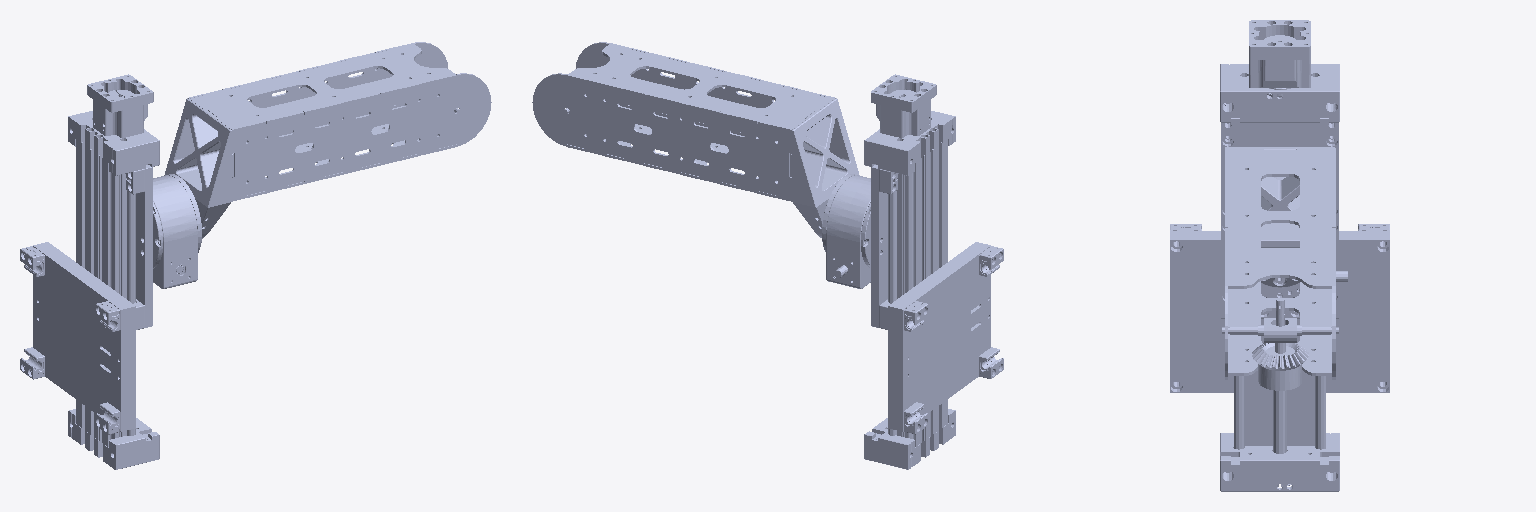
robot.urdf — gantry:
<?xml version="1.0" encoding="utf-8" ?>
<!-- This URDF was automatically created by SolidWorks to URDF Exporter! Originally created by [author] ([email redacted]) 
     Commit Version: 1.6.0-4-g7f85cfe  Build Version: 1.6.7995.38578
     For more information, please see http://wiki.ros.org/sw_urdf_exporter -->
<robot name="gantry">
    <link name="base_link">
        <inertial>
            <origin xyz="0.27339774606297 0.0196335701822426 -0.264075024281507" rpy="0 0 0" />
            <mass value="0.999102566760147" />
            <inertia ixx="0.000487064031842795" ixy="6.79087549106681E-07" ixz="1.23528453698552E-06" iyy="0.0114768570045405" iyz="-2.04757964896779E-08" izz="0.0112945243793064" />
        </inertial>
        <visual>
            <origin xyz="0 0 0" rpy="0 0 0" />
            <geometry>
                <mesh filename="package://gantry/meshes/base_link.STL" />
            </geometry>
            <material name="">
                <color rgba="0.792156862745098 0.819607843137255 0.933333333333333 1" />
            </material>
        </visual>
        <collision>
            <origin xyz="0 0 0" rpy="0 0 0" />
            <geometry>
                <mesh filename="package://gantry/meshes/base_link.STL" />
            </geometry>
        </collision>
    </link>
    <link name="X_Gantry_Link">
        <inertial>
            <origin xyz="-0.250897370416497 0.121219391821721 -0.118974126778769" rpy="0 0 0" />
            <mass value="2.7184408688585" />
            <inertia ixx="0.00586953459875889" ixy="-2.79508273037237E-10" ixz="-7.22728452005846E-09" iyy="0.0300491640122006" iyz="8.45462220164003E-05" izz="0.0312917393952744" />
        </inertial>
        <visual>
            <origin xyz="0 0 0" rpy="0 0 0" />
            <geometry>
                <mesh filename="package://gantry/meshes/X_Gantry_Link.STL" />
            </geometry>
            <material name="">
                <color rgba="0.792156862745098 0.819607843137255 0.933333333333333 1" />
            </material>
        </visual>
        <collision>
            <origin xyz="0 0 0" rpy="0 0 0" />
            <geometry>
                <mesh filename="package://gantry/meshes/X_Gantry_Link.STL" />
            </geometry>
        </collision>
    </link>
    <joint name="x_Gantry" type="prismatic">
        <origin xyz="0.0674975000000973 0.0424999999999915 0.0224999999999924" rpy="1.5707963267949 0 -1.5707963267949" />
        <parent link="base_link" />
        <child link="X_Gantry_Link" />
        <axis xyz="0 0 1" />
        <limit lower="-0.3" upper="0" effort="0" velocity="0" />
    </joint>
    <link name="Y_Gantry_Link">
        <inertial>
            <origin xyz="-0.100144651239331 -0.259006925809135 -0.0449081543375902" rpy="0 0 0" />
            <mass value="1.32530018007878" />
            <inertia ixx="0.00487081879798324" ixy="6.39112939864611E-08" ixz="-1.68886769690012E-07" iyy="0.00261475168874749" iyz="6.95247980957958E-07" izz="0.00721218050776162" />
        </inertial>
        <visual>
            <origin xyz="0 0 0" rpy="0 0 0" />
            <geometry>
                <mesh filename="package://gantry/meshes/Y_Gantry_Link.STL" />
            </geometry>
            <material name="">
                <color rgba="0.792156862745098 0.819607843137255 0.933333333333333 1" />
            </material>
        </visual>
        <collision>
            <origin xyz="0 0 0" rpy="0 0 0" />
            <geometry>
                <mesh filename="package://gantry/meshes/Y_Gantry_Link.STL" />
            </geometry>
        </collision>
    </link>
    <joint name="Y_Gantry" type="prismatic">
        <origin xyz="-0.241997500000031 0.461999999999982 -0.165502499998546" rpy="0 0 0" />
        <parent link="X_Gantry_Link" />
        <child link="Y_Gantry_Link" />
        <axis xyz="1 0 0" />
        <limit lower="0" upper="0.169" effort="0" velocity="0" />
    </joint>
    <link name="Z_Gantry_Link">
        <inertial>
            <origin xyz="-0.0536424640855505 -0.104673786375704 -0.0399261236240839" rpy="0 0 0" />
            <mass value="0.403068685283752" />
            <inertia ixx="0.000772979562738817" ixy="3.73636664016052E-08" ixz="1.36135519292121E-10" iyy="0.000362088816461052" iyz="2.61748959077511E-07" izz="0.00111993021135161" />
        </inertial>
        <visual>
            <origin xyz="0 0 0" rpy="0 0 0" />
            <geometry>
                <mesh filename="package://gantry/meshes/Z_Gantry_Link.STL" />
            </geometry>
            <material name="">
                <color rgba="0.792156862745098 0.819607843137255 0.933333333333333 1" />
            </material>
        </visual>
        <collision>
            <origin xyz="0 0 0" rpy="0 0 0" />
            <geometry>
                <mesh filename="package://gantry/meshes/Z_Gantry_Link.STL" />
            </geometry>
        </collision>
    </link>
    <joint name="Z_Gantry" type="prismatic">
        <origin xyz="-0.0465025000000195 -0.0794677300954897 -0.0589999999999941" rpy="0 0 0" />
        <parent link="Y_Gantry_Link" />
        <child link="Z_Gantry_Link" />
        <axis xyz="0 1 0" />
        <limit lower="-0.137" upper="0" effort="0" velocity="0" />
    </joint>
    <link name="R_Arm_Link">
        <inertial>
            <origin xyz="0.000109473507279578 0.0560505796733769 0.13805236300869" rpy="0 0 0" />
            <mass value="0.64532660044539" />
            <inertia ixx="0.00306981338547555" ixy="1.71181564044435E-09" ixz="6.17685909908221E-09" iyy="0.00302834442807902" iyz="-9.03830003373785E-05" izz="0.000840530479292639" />
        </inertial>
        <visual>
            <origin xyz="0 0 0" rpy="0 0 0" />
            <geometry>
                <mesh filename="package://gantry/meshes/R_Arm_Link.STL" />
            </geometry>
            <material name="">
                <color rgba="0.792156862745098 0.819607843137255 0.933333333333333 1" />
            </material>
        </visual>
        <collision>
            <origin xyz="0 0 0" rpy="0 0 0" />
            <geometry>
                <mesh filename="package://gantry/meshes/R_Arm_Link.STL" />
            </geometry>
        </collision>
    </link>
    <joint name="R_Arm" type="continuous">
        <origin xyz="-0.0534999999999979 -0.100032269904372 -0.0569000000000014" rpy="3.14159265358979 0 3.14159265358979" />
        <parent link="Z_Gantry_Link" />
        <child link="R_Arm_Link" />
        <axis xyz="0 0 1" />
    </joint>
    <link name="TMS_1_Link">
        <inertial>
            <origin xyz="-4.56840156878302E-05 7.36077865326479E-14 -3.34343663865866E-13" rpy="0 0 0" />
            <mass value="0.0116350451938088" />
            <inertia ixx="6.14460426457637E-07" ixy="-1.18091912603685E-20" ixz="3.26582785426984E-20" iyy="4.75482817954653E-06" iyz="-1.39100706744228E-21" izz="5.05668684718519E-06" />
        </inertial>
        <visual>
            <origin xyz="0 0 0" rpy="0 0 0" />
            <geometry>
                <mesh filename="package://gantry/meshes/TMS_1_Link.STL" />
            </geometry>
            <material name="">
                <color rgba="0.792156862745098 0.819607843137255 0.933333333333333 1" />
            </material>
        </visual>
        <collision>
            <origin xyz="0 0 0" rpy="0 0 0" />
            <geometry>
                <mesh filename="package://gantry/meshes/TMS_1_Link.STL" />
            </geometry>
        </collision>
    </link>
    <joint name="TMS_1" type="continuous">
        <origin xyz="0.000346999570831286 0.0752500000000218 0.370600000000016" rpy="1.57079632679489 0 0" />
        <parent link="R_Arm_Link" />
        <child link="TMS_1_Link" />
        <axis xyz="1 0 0" />
    </joint>
    <link name="TMS_HEAD_Link">
        <inertial>
            <origin xyz="-6.06164768379713E-09 3.13335531965109E-08 0.0319916748170583" rpy="0 0 0" />
            <mass value="0.0428412061326084" />
            <inertia ixx="1.16531775928894E-05" ixy="1.27769948468722E-13" ixz="-4.42323913483762E-13" iyy="1.16530809035127E-05" iyz="1.54673107609465E-11" izz="8.98989779656289E-06" />
        </inertial>
        <visual>
            <origin xyz="0 0 0" rpy="0 0 0" />
            <geometry>
                <mesh filename="package://gantry/meshes/TMS_HEAD_Link.STL" />
            </geometry>
            <material name="">
                <color rgba="0.792156862745098 0.819607843137255 0.933333333333333 1" />
            </material>
        </visual>
        <collision>
            <origin xyz="0 0 0" rpy="0 0 0" />
            <geometry>
                <mesh filename="package://gantry/meshes/TMS_HEAD_Link.STL" />
            </geometry>
        </collision>
    </link>
    <joint name="TMS_HEAD" type="continuous">
        <origin xyz="0 0 0" rpy="0 0 3.14159265358979" />
        <parent link="TMS_1_Link" />
        <child link="TMS_HEAD_Link" />
        <axis xyz="0 0 1" />
    </joint>
    <transmission name="trans_x_Gantry">
        <type>transmission_interface/SimpleTransmission</type>
        <joint name="x_Gantry">
            <hardwareInterface>hardware_interface/EffortJointInterface</hardwareInterface>
        </joint>
        <actuator name="x_Gantry_motor">
            <hardwareInterface>hardware_interface/EffortJointInterface</hardwareInterface>
            <mechanicalReduction>1</mechanicalReduction>
        </actuator>
    </transmission>
    <transmission name="trans_Y_Gantry">
        <type>transmission_interface/SimpleTransmission</type>
        <joint name="Y_Gantry">
            <hardwareInterface>hardware_interface/EffortJointInterface</hardwareInterface>
        </joint>
        <actuator name="Y_Gantry_motor">
            <hardwareInterface>hardware_interface/EffortJointInterface</hardwareInterface>
            <mechanicalReduction>1</mechanicalReduction>
        </actuator>
    </transmission>
    <transmission name="trans_Z_Gantry">
        <type>transmission_interface/SimpleTransmission</type>
        <joint name="Z_Gantry">
            <hardwareInterface>hardware_interface/EffortJointInterface</hardwareInterface>
        </joint>
        <actuator name="Z_Gantry_motor">
            <hardwareInterface>hardware_interface/EffortJointInterface</hardwareInterface>
            <mechanicalReduction>1</mechanicalReduction>
        </actuator>
    </transmission>
    <transmission name="trans_R_Arm">
        <type>transmission_interface/SimpleTransmission</type>
        <joint name="R_Arm">
            <hardwareInterface>hardware_interface/EffortJointInterface</hardwareInterface>
        </joint>
        <actuator name="R_Arm_motor">
            <hardwareInterface>hardware_interface/EffortJointInterface</hardwareInterface>
            <mechanicalReduction>1</mechanicalReduction>
        </actuator>
    </transmission>
    <transmission name="trans_TMS_1">
        <type>transmission_interface/SimpleTransmission</type>
        <joint name="TMS_1">
            <hardwareInterface>hardware_interface/EffortJointInterface</hardwareInterface>
        </joint>
        <actuator name="TMS_1_motor">
            <hardwareInterface>hardware_interface/EffortJointInterface</hardwareInterface>
            <mechanicalReduction>1</mechanicalReduction>
        </actuator>
    </transmission>
    <transmission name="trans_TMS_HEAD">
        <type>transmission_interface/SimpleTransmission</type>
        <joint name="TMS_HEAD">
            <hardwareInterface>hardware_interface/EffortJointInterface</hardwareInterface>
        </joint>
        <actuator name="TMS_HEAD_motor">
            <hardwareInterface>hardware_interface/EffortJointInterface</hardwareInterface>
            <mechanicalReduction>1</mechanicalReduction>
        </actuator>
    </transmission>
    <gazebo>
        <plugin name="gazebo_ros_control">
            <robotNamespace>/</robotNamespace>
        </plugin>
    </gazebo>
</robot>

--- Render facts (derived) ---
3 views of the same robot in one strip: view 1: azimuth 30°, elevation 25°; view 2: azimuth 150°, elevation 25°; view 3: azimuth 270°, elevation 25° (orthographic).
Robot: gantry — 7 links, 6 joints (3 continuous, 3 prismatic); root link base_link; default pose: all joints at 0.
Links seen in each view (by area): view 1: R_Arm_Link, Y_Gantry_Link, Z_Gantry_Link; view 2: R_Arm_Link, Y_Gantry_Link, Z_Gantry_Link; view 3: Y_Gantry_Link, R_Arm_Link, Z_Gantry_Link, TMS_HEAD_Link, TMS_1_Link.
Link boxes in pixels (x1,y1,x2,y2): R_Arm_Link: (164,42,491,238); Y_Gantry_Link: (20,74,159,469); Z_Gantry_Link: (126,165,201,329); R_Arm_Link: (532,42,859,237); Y_Gantry_Link: (864,74,1003,469); Z_Gantry_Link: (822,165,897,329); Y_Gantry_Link: (1170,20,1389,491); R_Arm_Link: (1225,147,1335,379); Z_Gantry_Link: (1221,118,1347,318); TMS_HEAD_Link: (1252,298,1308,390); TMS_1_Link: (1222,318,1338,342).
Size in the robot's own frame: 0.5315 by 0.2 by 0.448 metres.
Meshes: 7 distinct files referenced, 5 mesh visuals loaded (5 binary STL); not drawn: 2 (reference not matched to a file when rendering).